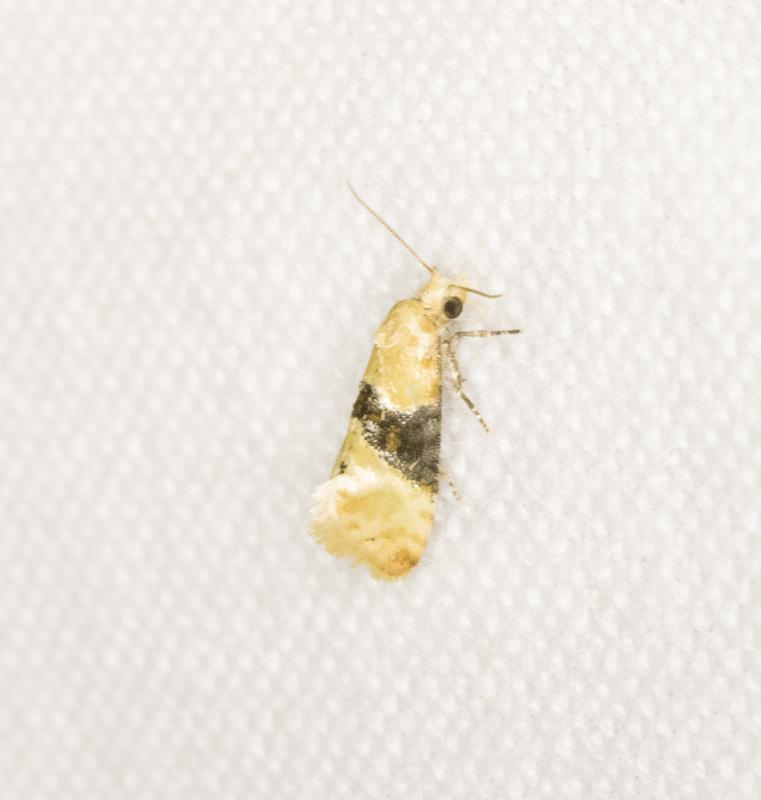Eupoecilia Ambiguella: (303, 179, 523, 584)
